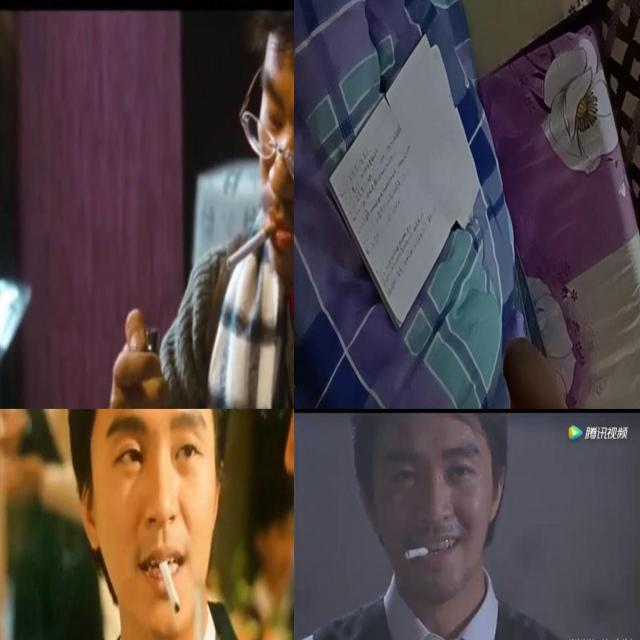cigarette: (224, 221, 278, 272), (158, 560, 181, 617), (399, 536, 432, 566)
